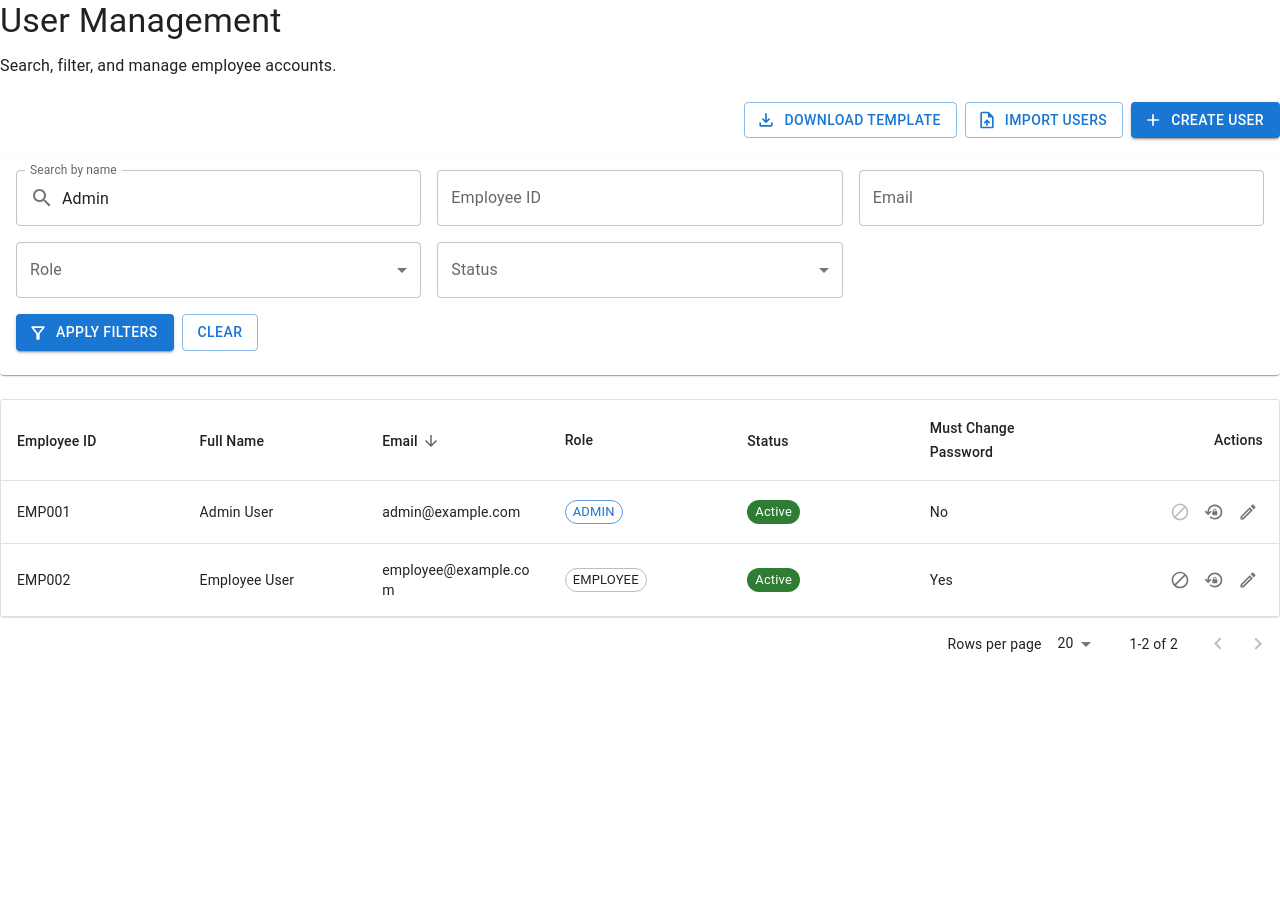
UserListPage › opens create dialog and refreshes list after successful create
Expected: the text "Admin User" is shown, [200,504,274,520]
Step 1. Click the button "Create User" → (1206, 120), box [1131,102,1279,138]
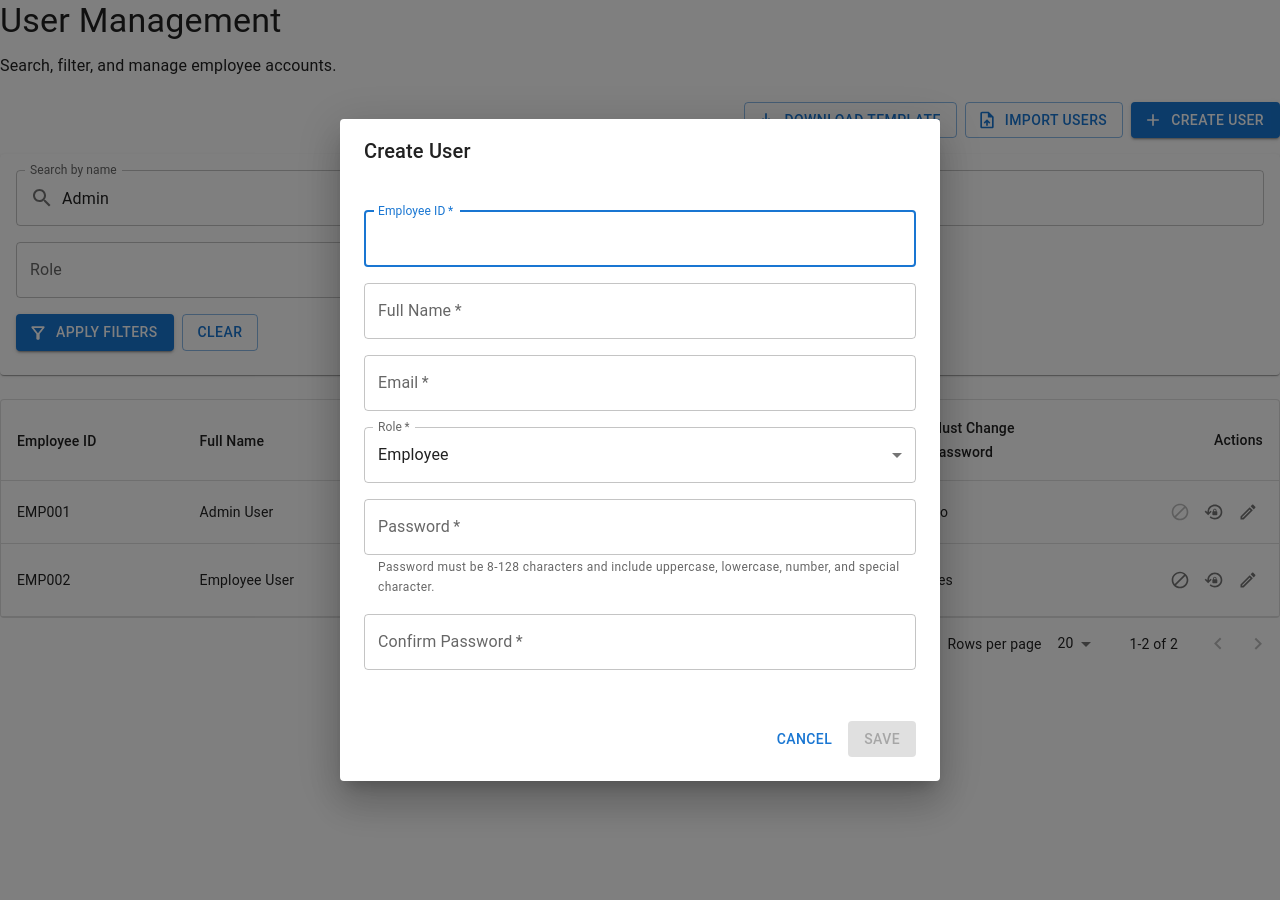
Step 2. Type "EMP010" into the field labelled "Employee ID" → (640, 239), box [364,211,916,267]
Step 3. Type "New Employee" into the field labelled "Full Name" → (640, 311), box [364,283,916,339]
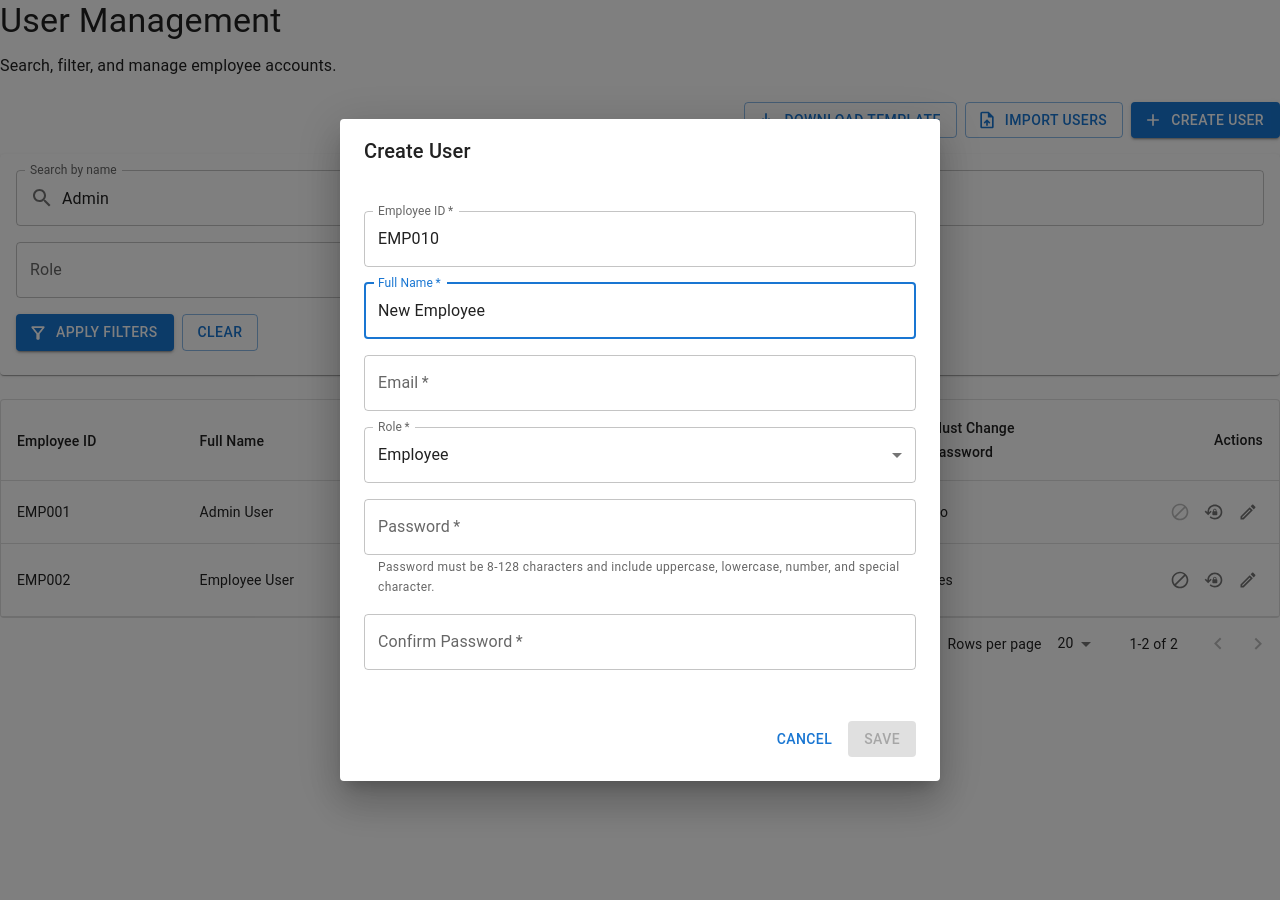
Step 4. Type "new.employee@example.com" into the field labelled "Email" → (640, 383), box [364,355,916,411]
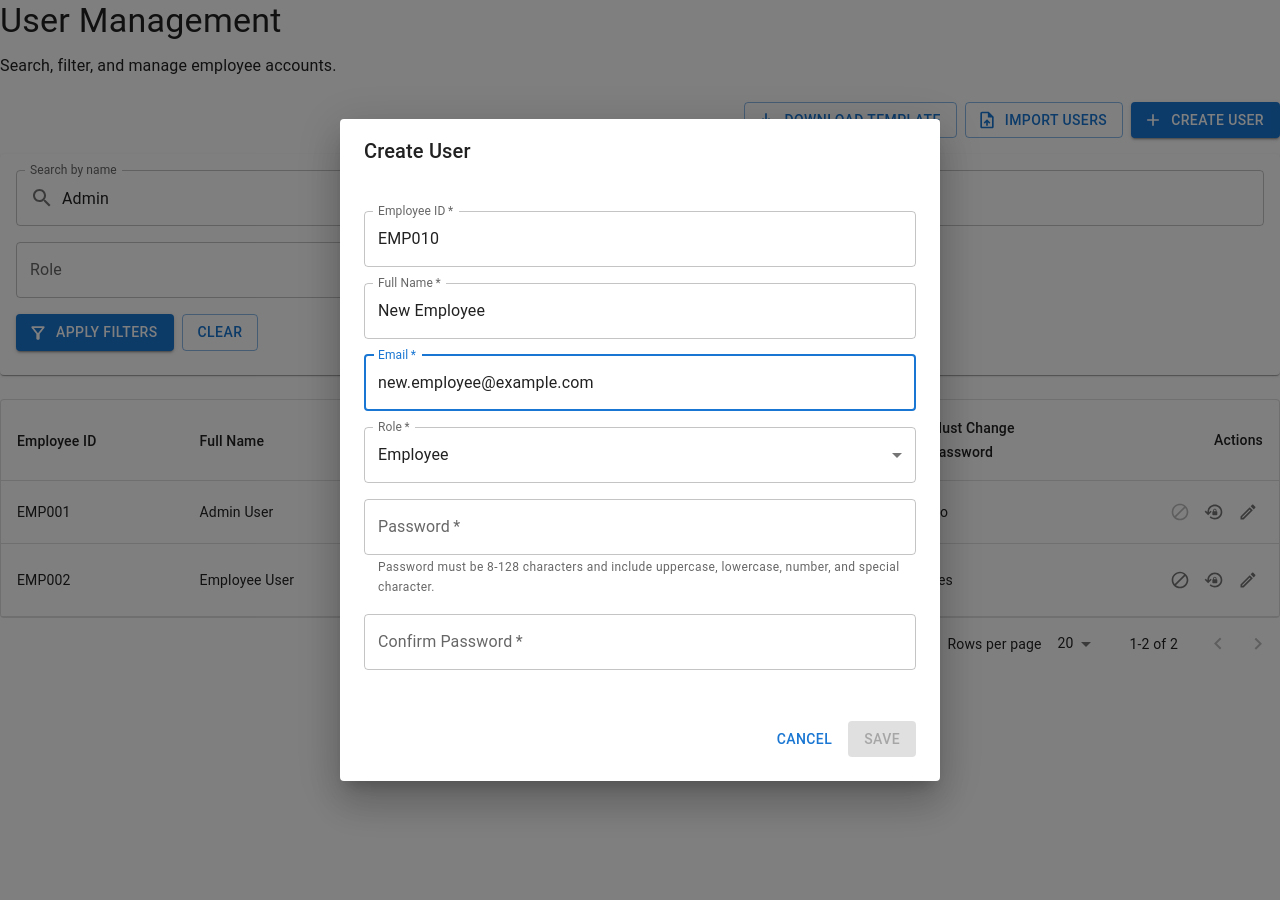
Step 5. Type "Temp@12345" into the password field labelled "Password *" → (640, 527), box [364,499,916,555]
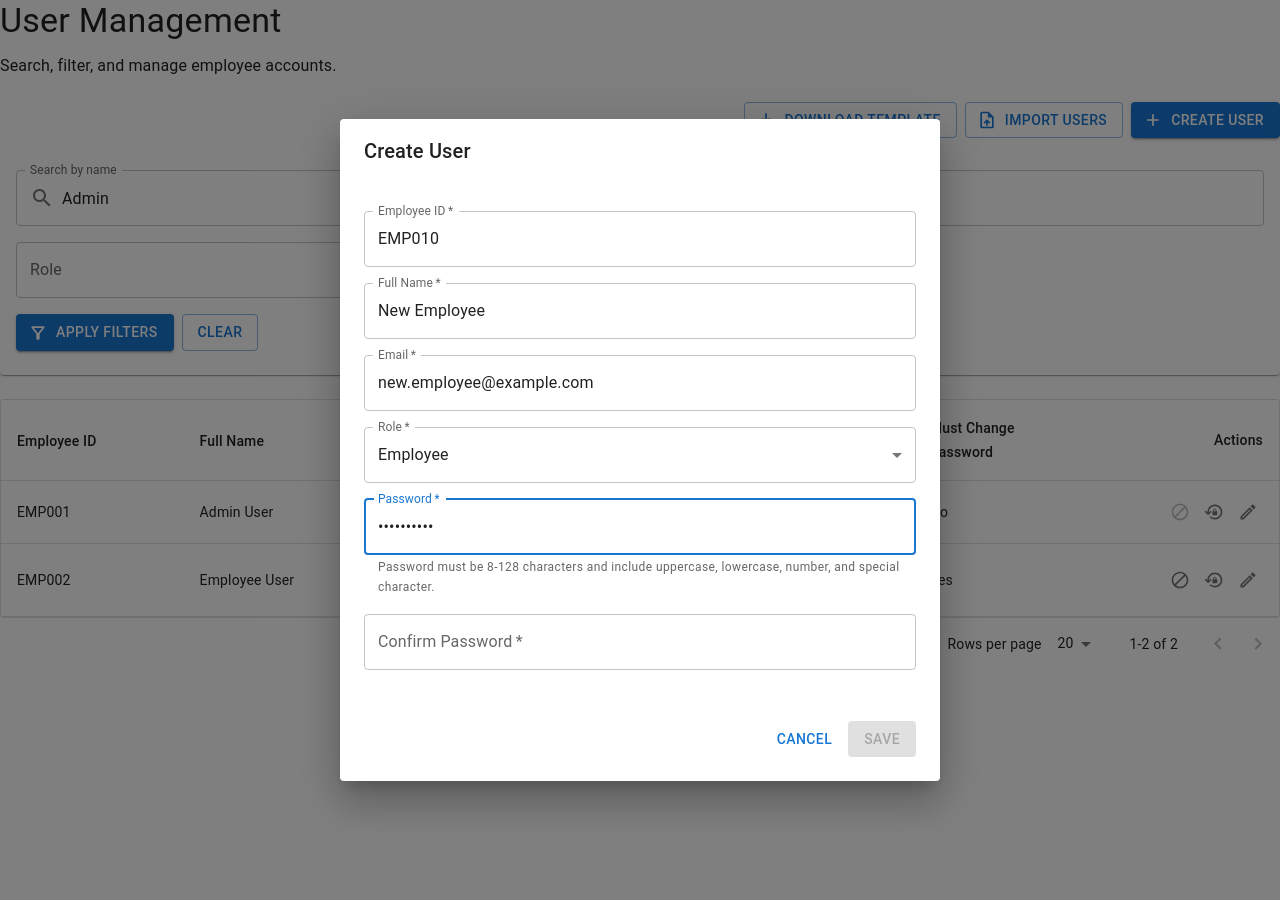
Step 6. Type "Temp@12345" into the password field labelled "Confirm Password *" → (640, 642), box [364,614,916,670]
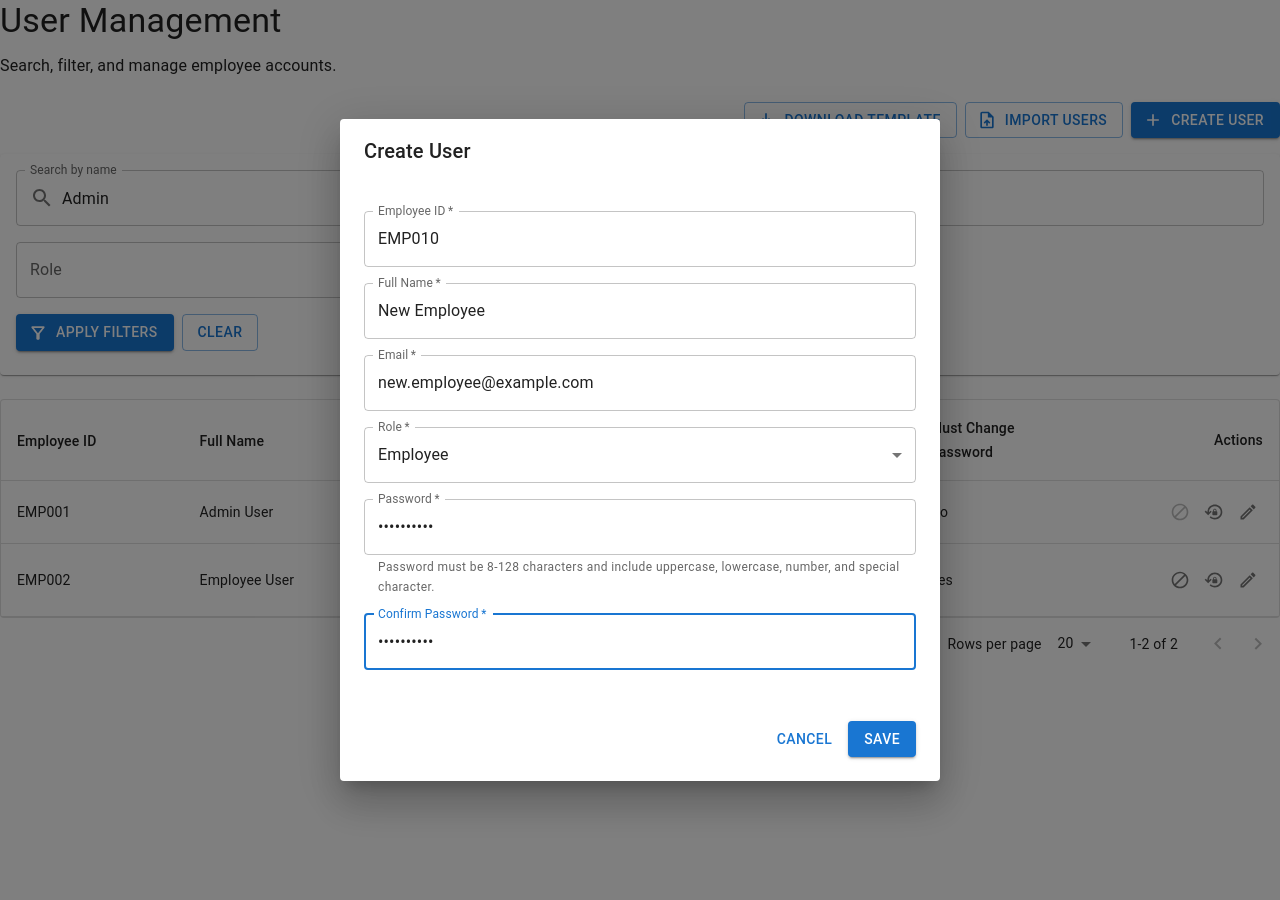
Step 7. Click the button "Save" → (882, 739), box [848,721,916,757]
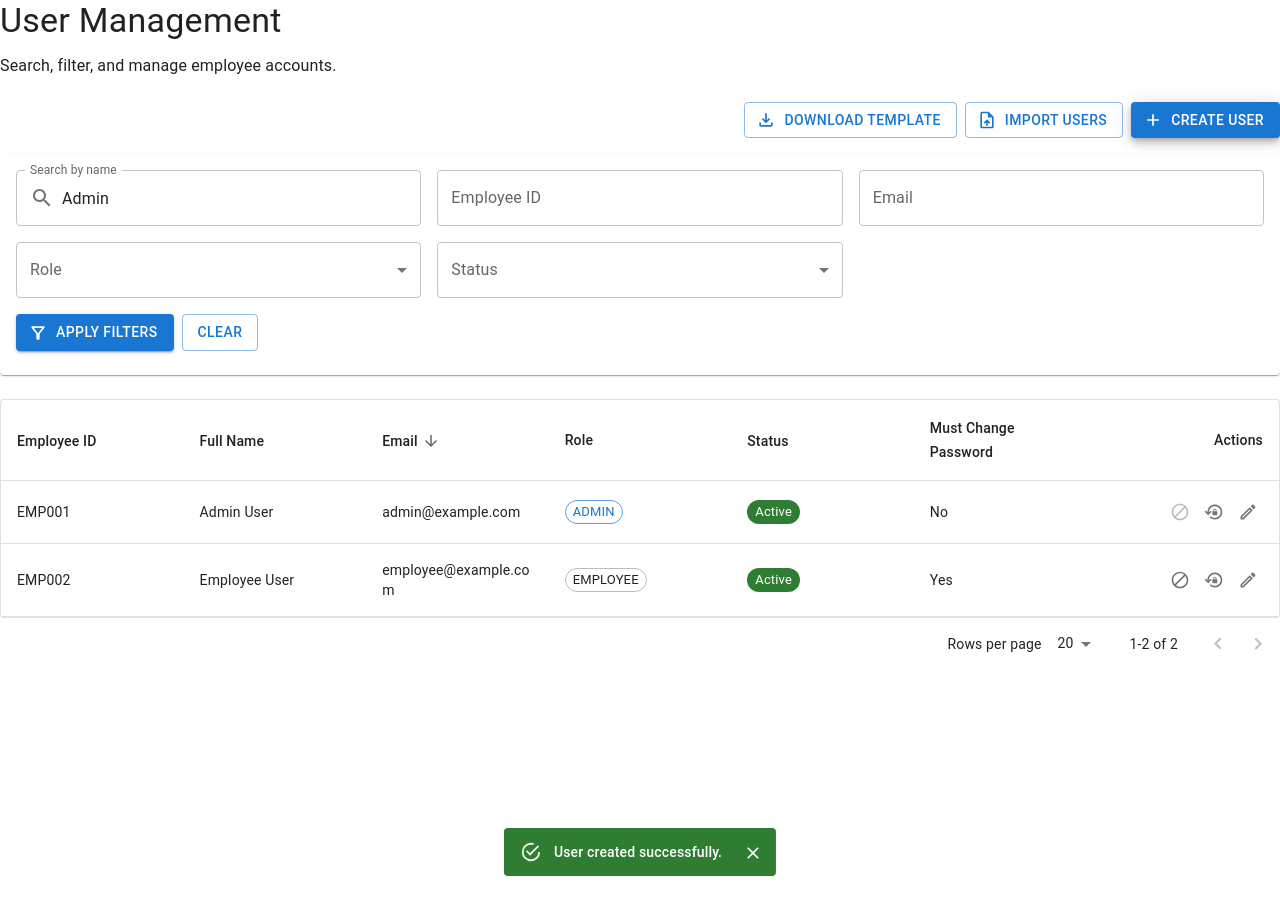
Expected: the message reads "User created successfully.", [554,844,722,860]
